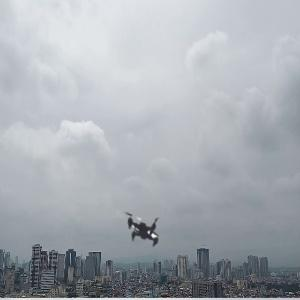drone: (86, 171, 212, 297)
